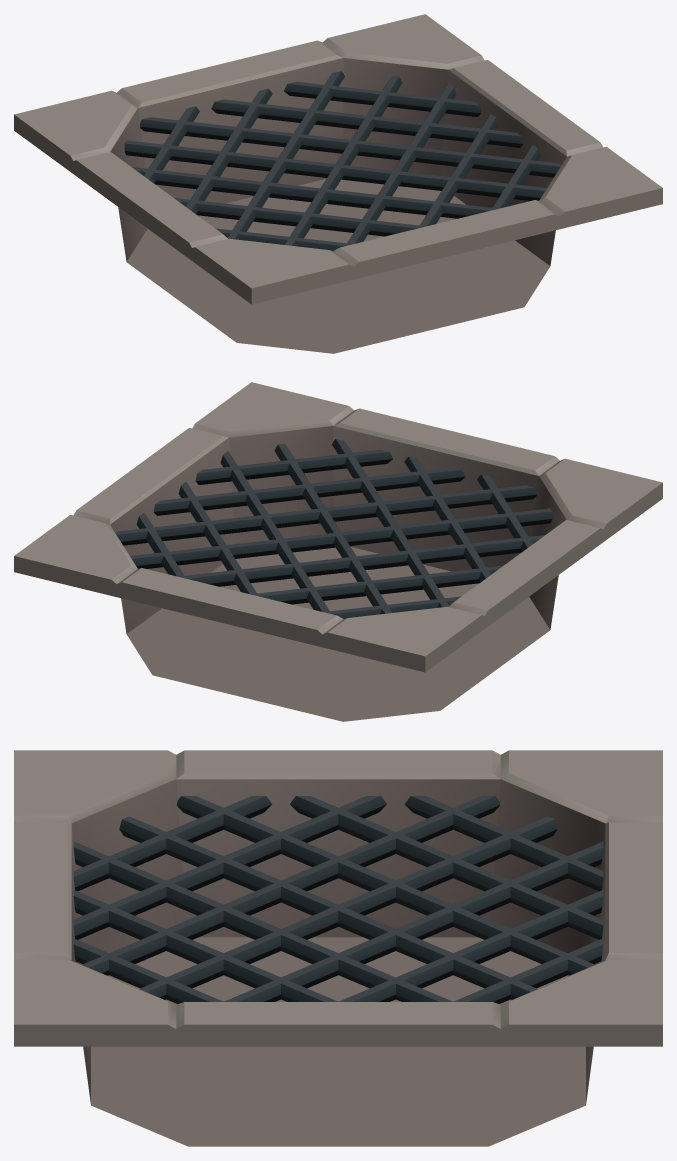
The model's file is floor_tile_big_grate.gltf.
The picture shows the model from 3 angles, top to bottom: view 1: azimuth 30°, elevation 25°; view 2: azimuth 150°, elevation 25°; view 3: azimuth 270°, elevation 25°; orthographic projection. The views are drawn at different scales.
Parts seen in each view (by area): view 1: floor_tile_big_grate; view 2: floor_tile_big_grate; view 3: floor_tile_big_grate.
Boxes of the visible parts, x1,y1,x2,y2 form: floor_tile_big_grate: (14,14,662,353); floor_tile_big_grate: (14,382,662,721); floor_tile_big_grate: (14,750,662,1146).
Size of the model in its own units: 4 by 1.05 by 4.
Materials: 1 (1 with a texture image).
